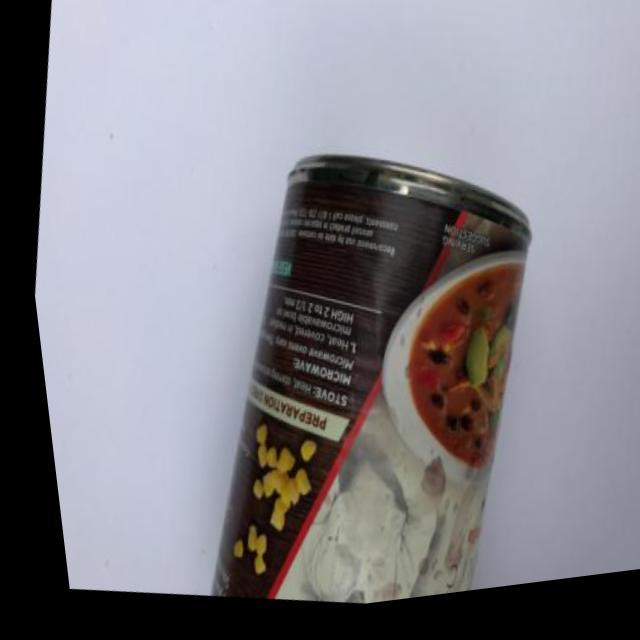metal: (121, 62, 637, 629)
